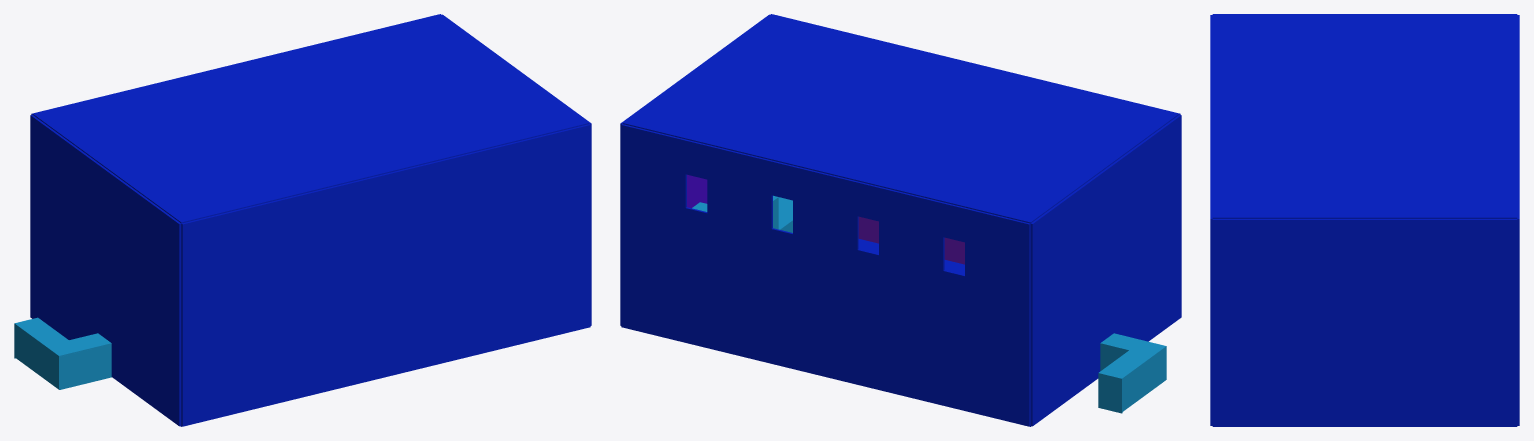
File: firing_range3.fbx
The picture shows the model from 3 angles, left to right: view 1: azimuth 30°, elevation 25°; view 2: azimuth 150°, elevation 25°; view 3: azimuth 270°, elevation 25°; orthographic projection. The views are drawn at different scales.
Visible parts, largest first — view 1: walls; view 2: walls; view 3: walls.
Part boxes in pixels (bbox=[...]): walls: bbox=[14, 14, 591, 426]; walls: bbox=[620, 14, 1181, 426]; walls: bbox=[1210, 14, 1519, 426].
Size of the model in its own units: 43.3 by 18.2 by 24.4.
